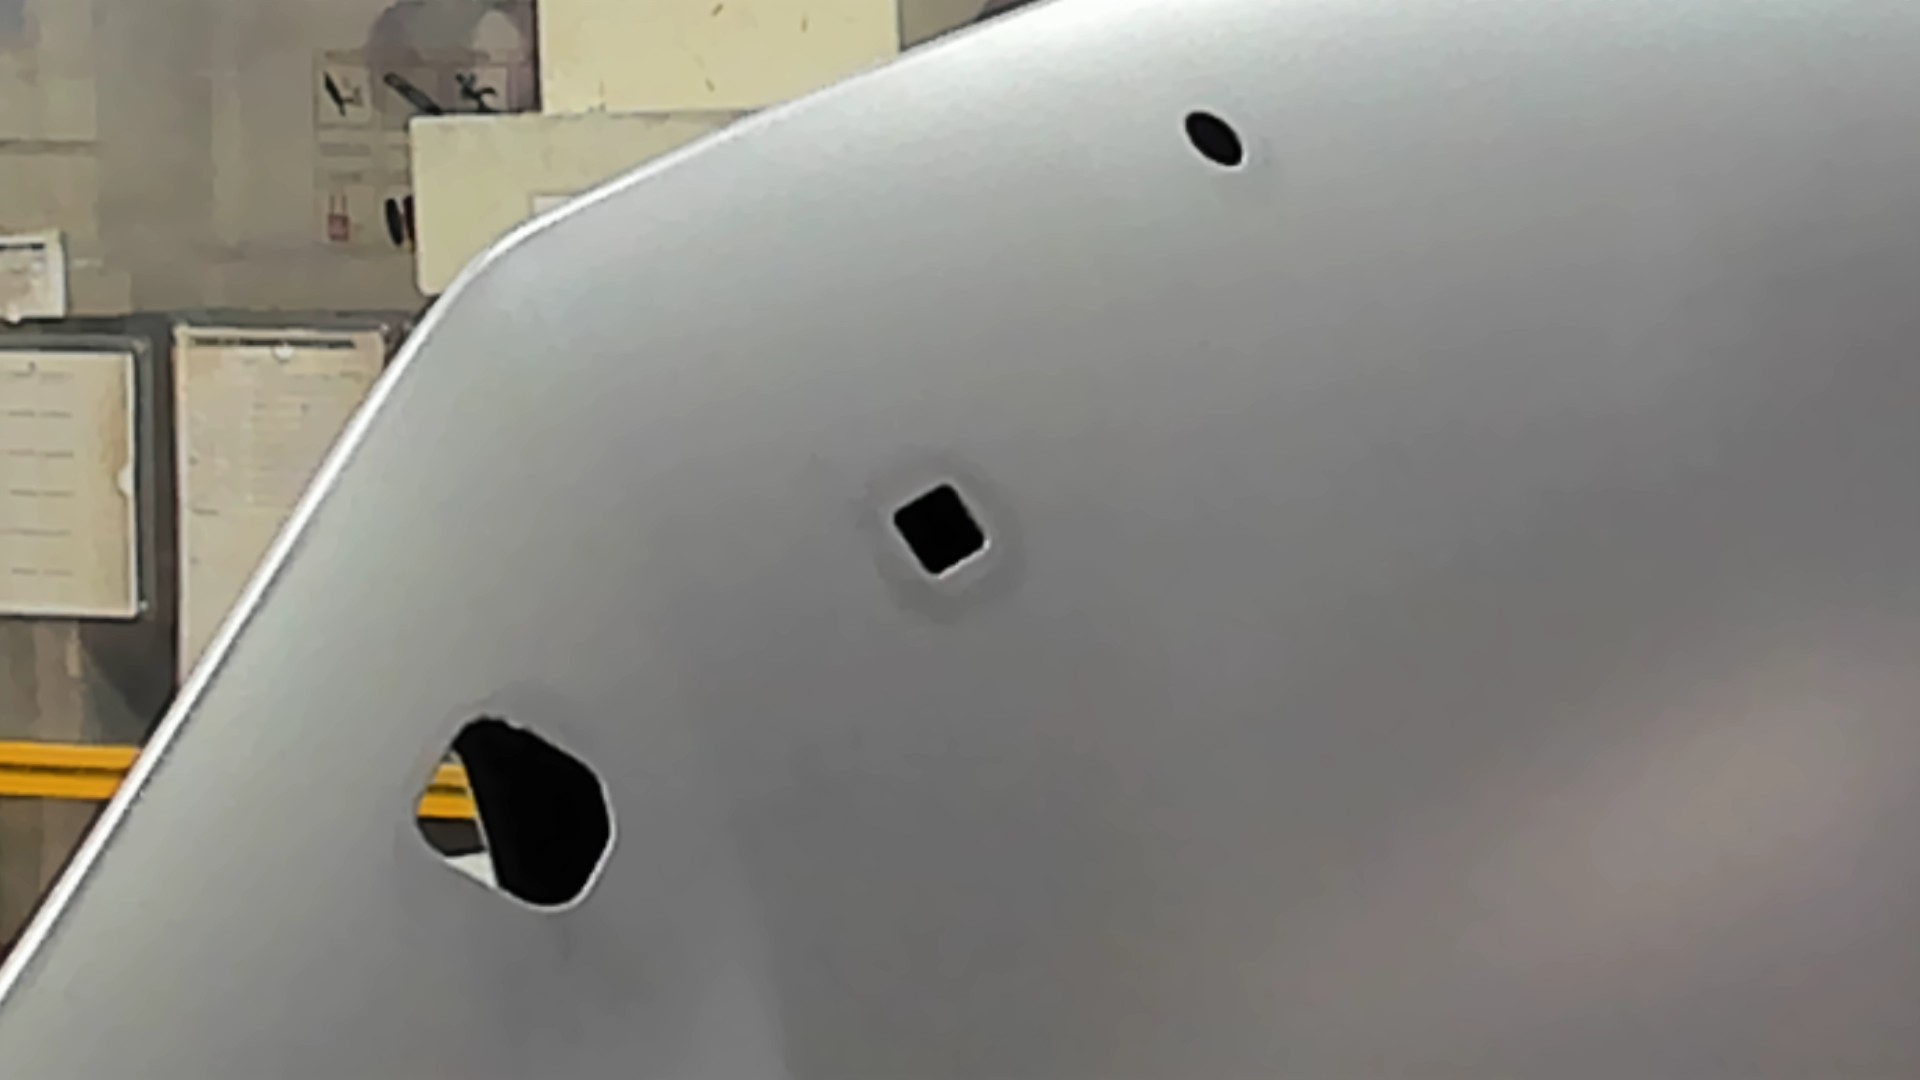chico: (1179, 102, 1251, 174)
grande: (405, 709, 620, 919)
mediano: (880, 477, 992, 585)
